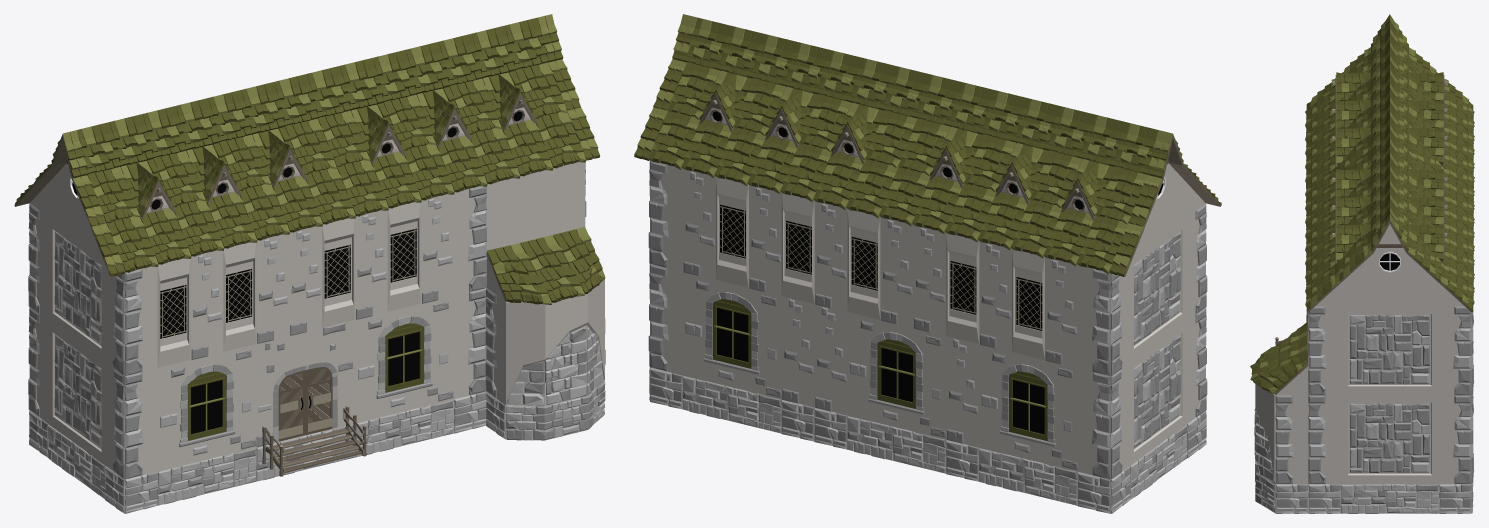
Rendered from HOUSE_3.fbx.
The picture shows the model from 3 angles, left to right: view 1: azimuth 30°, elevation 25°; view 2: azimuth 150°, elevation 25°; view 3: azimuth 270°, elevation 25°; orthographic projection. The views are drawn at different scales.
Parts seen in each view (by area): view 1: WINDOW_05_13, WINDOW_05_12, BALKON_03_2, DOOR_02_2, ROOF_base_round_2, WALL_02_2, WALL_02_3, FOUNDATION_01_2, WALL_05_2, WALL_06_5, WALL_06_2, WALL_05_6 (+74 smaller); view 2: WINDOW_05_15, WINDOW_05_14, WINDOW_05_16, WALL_02_2, WALL_02_3, WALL_06_16, WALL_06_14, WALL_06_15, WALL_06_11, WALL_06_9, WALL_06_10, WINDOW_04_9 (+71 smaller); view 3: WALL_02_4, WALL_02_5, WALL_05_7, WALL_07_7, WALL_05_10, FOUNDATION_03_9, WALL_07_8, WALL_05_9, ROOF_base_round_2, BALKON_03_2, ROOF_TRIAGLE_QUAD_9, FOUNDATION_02_7 (+87 smaller).
Part boxes in pixels (x1,y1,x2,y2): WINDOW_05_13: [157, 344, 256, 470]; WINDOW_05_12: [355, 296, 453, 422]; BALKON_03_2: [503, 279, 604, 405]; DOOR_02_2: [256, 320, 354, 447]; ROOF_base_round_2: [486, 226, 605, 304]; WALL_02_2: [48, 321, 105, 464]; WALL_02_3: [48, 217, 105, 361]; FOUNDATION_01_2: [505, 381, 605, 440]; WALL_05_2: [124, 368, 157, 479]; WALL_06_5: [420, 194, 453, 303]; WALL_06_2: [190, 250, 223, 359]; WALL_05_6: [124, 266, 157, 375]; WINDOW_05_15: [847, 312, 946, 439]; WINDOW_05_14: [979, 344, 1077, 471]; WINDOW_05_16: [683, 272, 781, 398]; WALL_02_2: [1130, 321, 1186, 465]; WALL_02_3: [1130, 217, 1186, 361]; WALL_06_16: [781, 296, 814, 406]; WALL_06_14: [946, 336, 979, 447]; WALL_06_15: [814, 304, 847, 415]; WALL_06_11: [814, 201, 847, 311]; WALL_06_9: [913, 225, 946, 335]; WALL_06_10: [880, 216, 913, 327]; WINDOW_04_9: [781, 193, 814, 303]; WALL_02_4: [1341, 306, 1438, 395]; WALL_02_5: [1341, 395, 1438, 483]; WALL_05_7: [1275, 395, 1308, 483]; WALL_07_7: [1439, 306, 1471, 395]; WALL_05_10: [1308, 306, 1340, 395]; FOUNDATION_03_9: [1341, 484, 1438, 513]; WALL_07_8: [1439, 395, 1471, 483]; WALL_05_9: [1308, 395, 1340, 483]; ROOF_base_round_2: [1250, 322, 1308, 394]; BALKON_03_2: [1254, 384, 1275, 483]; ROOF_TRIAGLE_QUAD_9: [1373, 276, 1406, 306]; FOUNDATION_02_7: [1275, 484, 1308, 513].
Bounding box in the file's own units: 1491 × 1014 × 689.
